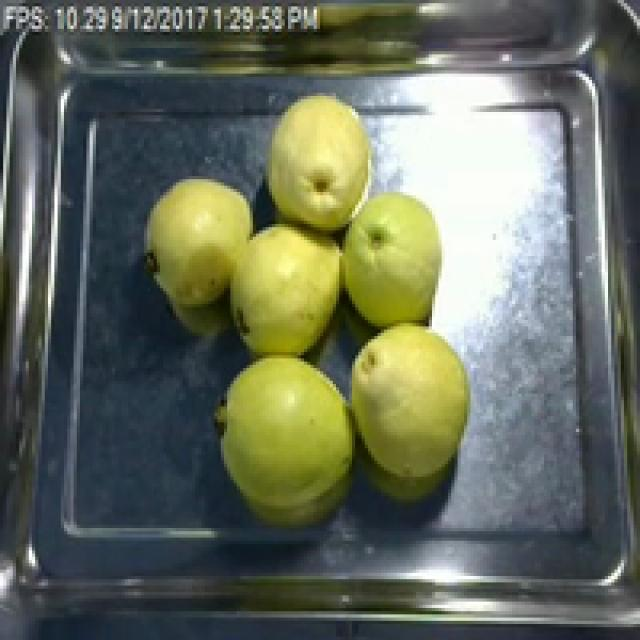Fruit: (208, 342, 358, 534), (349, 310, 480, 490), (256, 80, 384, 243), (220, 211, 346, 371), (336, 182, 454, 342), (138, 170, 262, 316)
